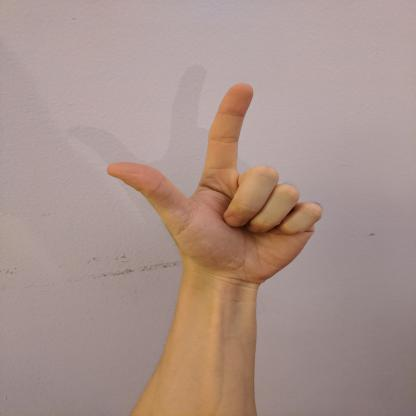L: (99, 78, 328, 288)
